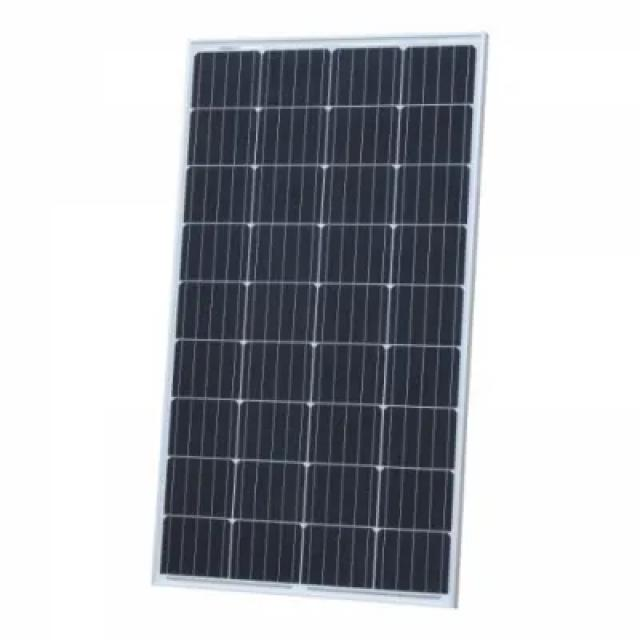no faulty: (179, 34, 477, 582)
